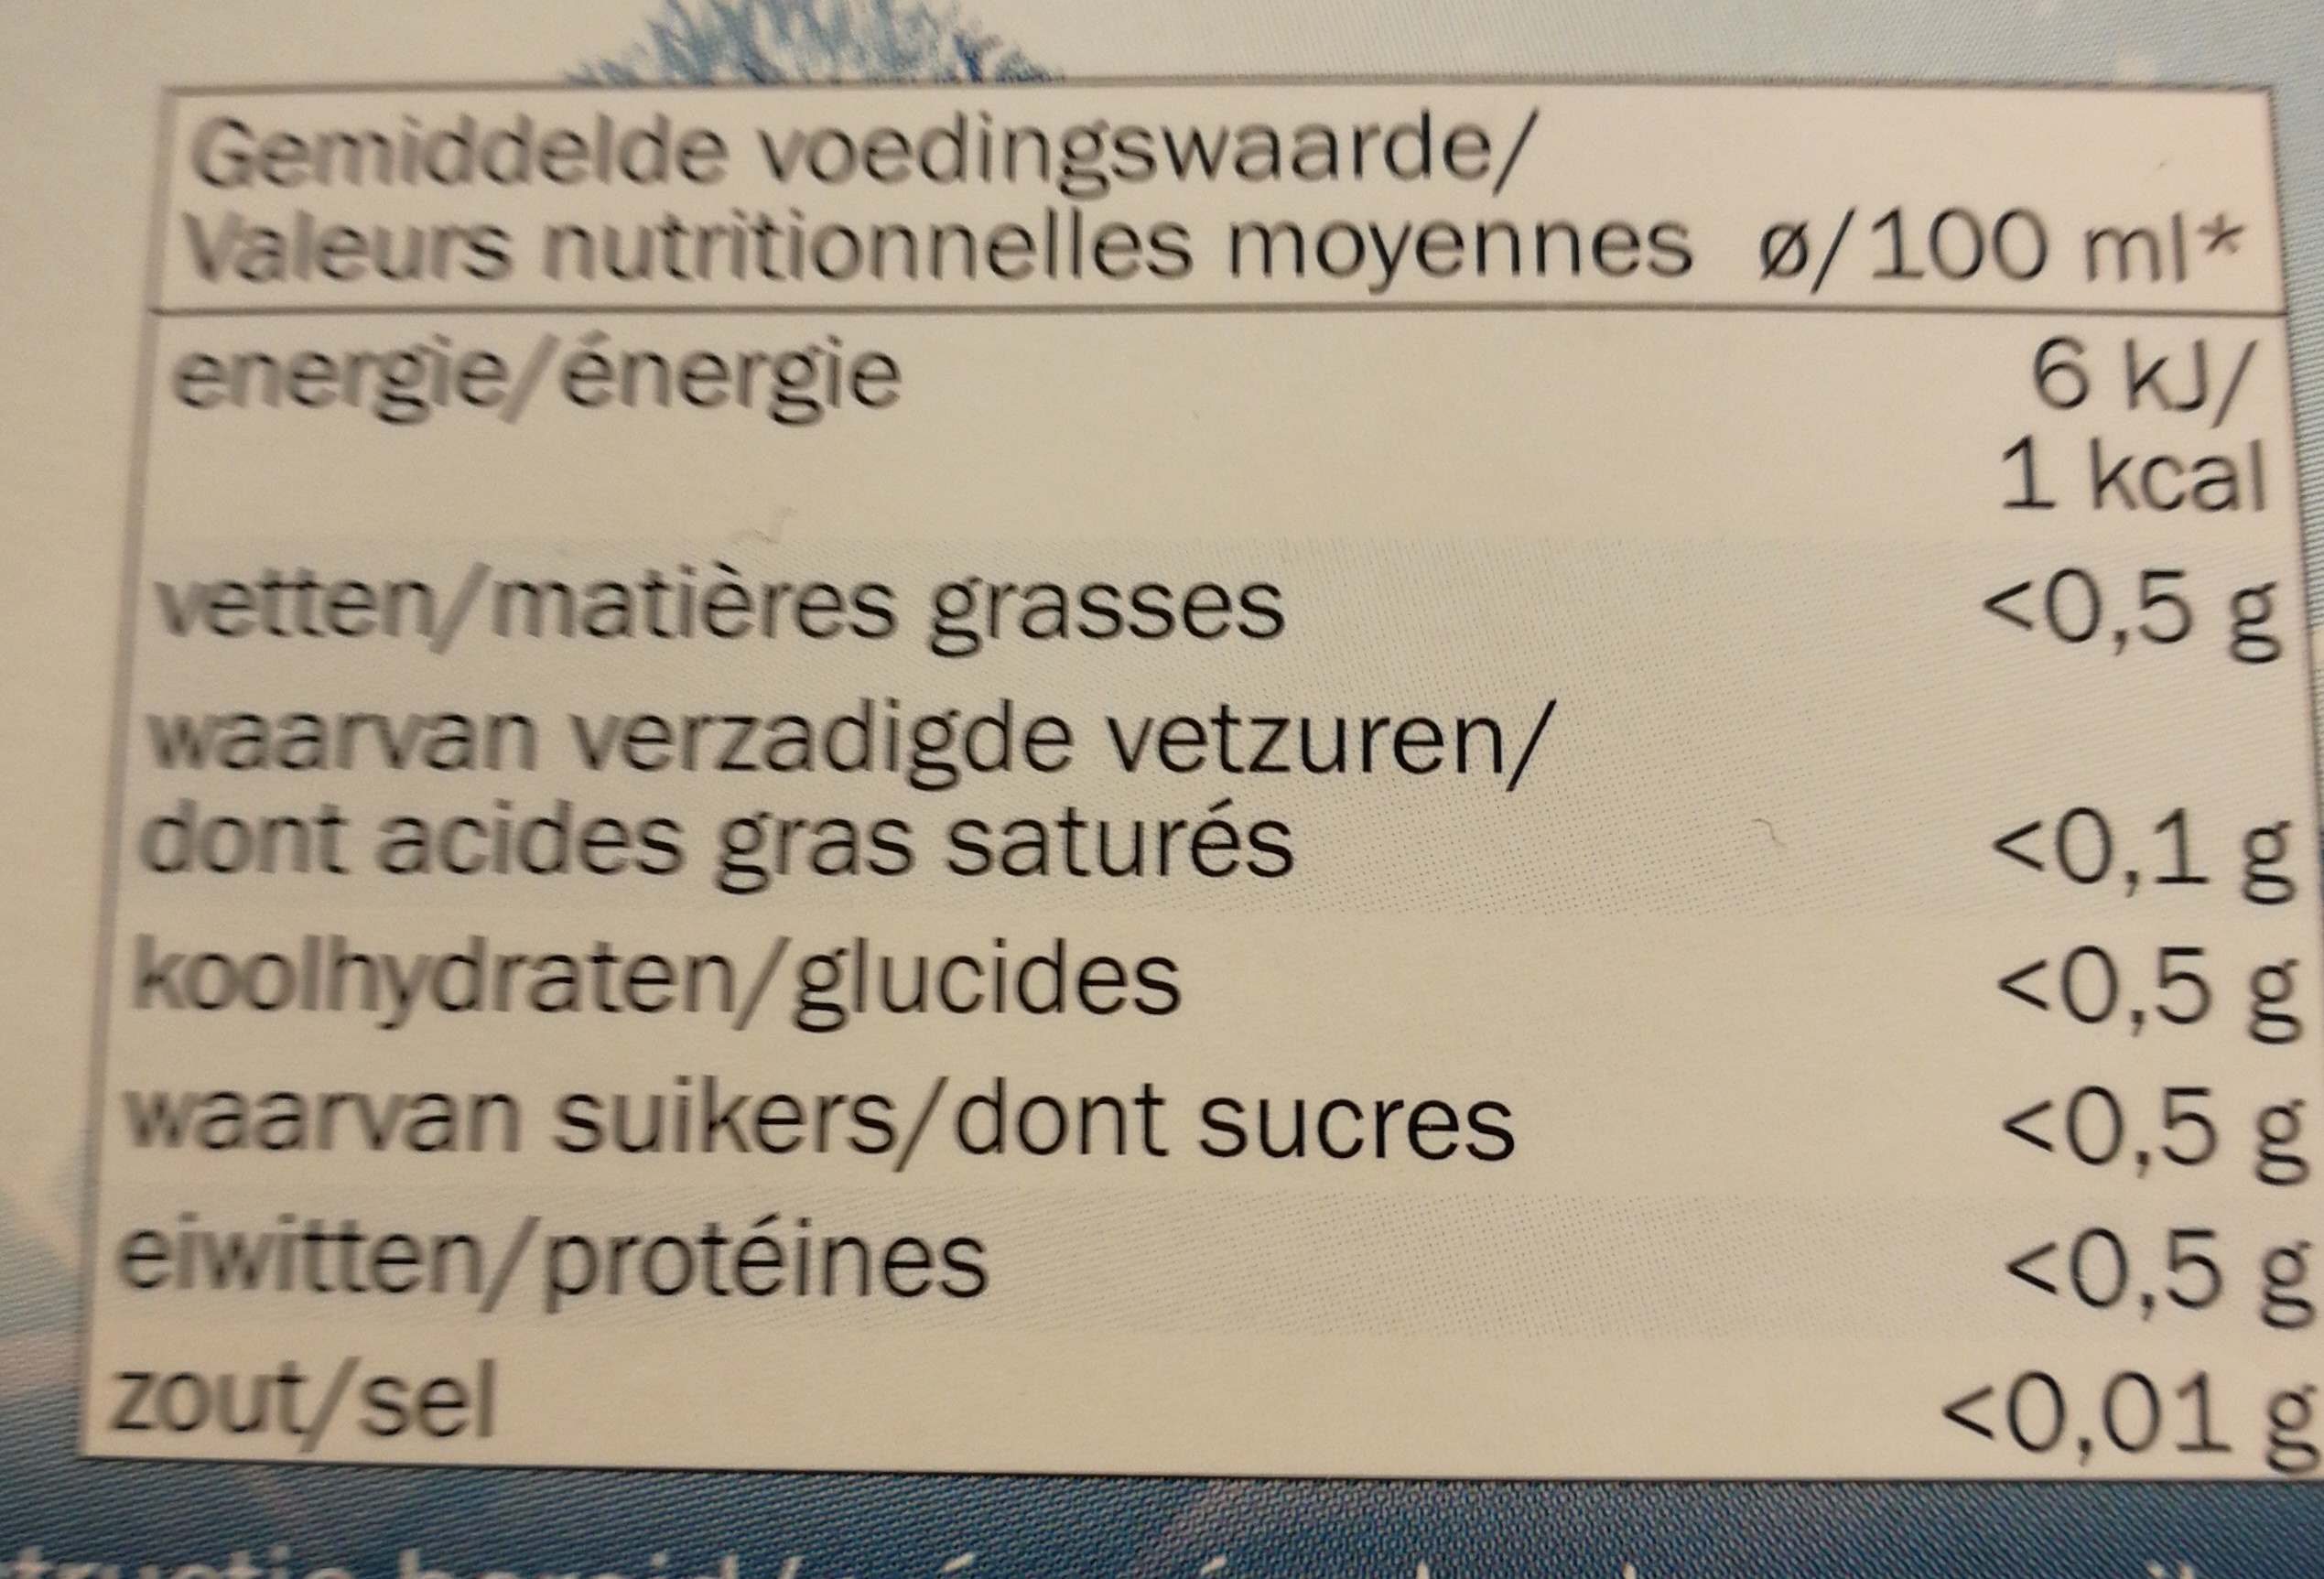column: (129, 93, 1716, 1456), (1743, 106, 2289, 1473)
table: (125, 92, 2315, 1473)
